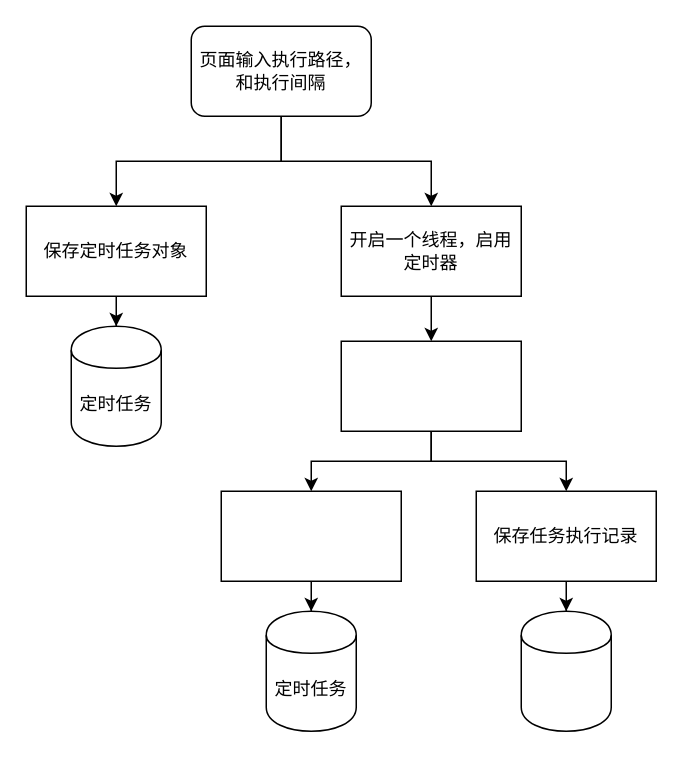
Image size: 683x758. Some labels were removed from this diagram. Here are the shapes that lost their labels. From the top down, the centre of each, then its label:
At (430,385): "执行路径中的方法".
At (310,535): "更新定时任务中的执行结果".
At (565,670): "定时任务记录".
